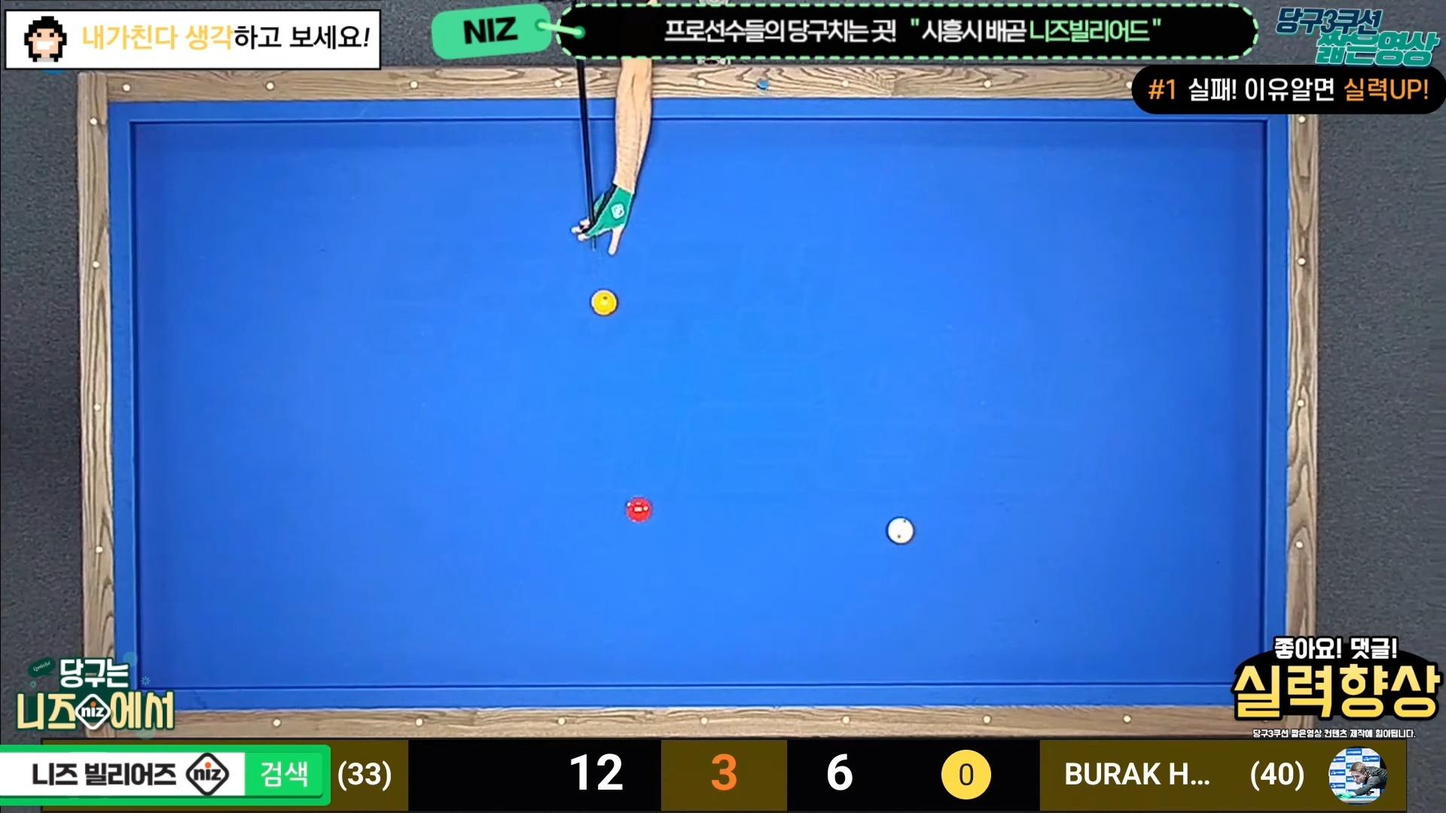billiard-ball-Red: (626, 494, 654, 527)
billiard-ball-Yellow: (589, 288, 618, 317)
billiard-ball-white: (885, 516, 914, 545)
